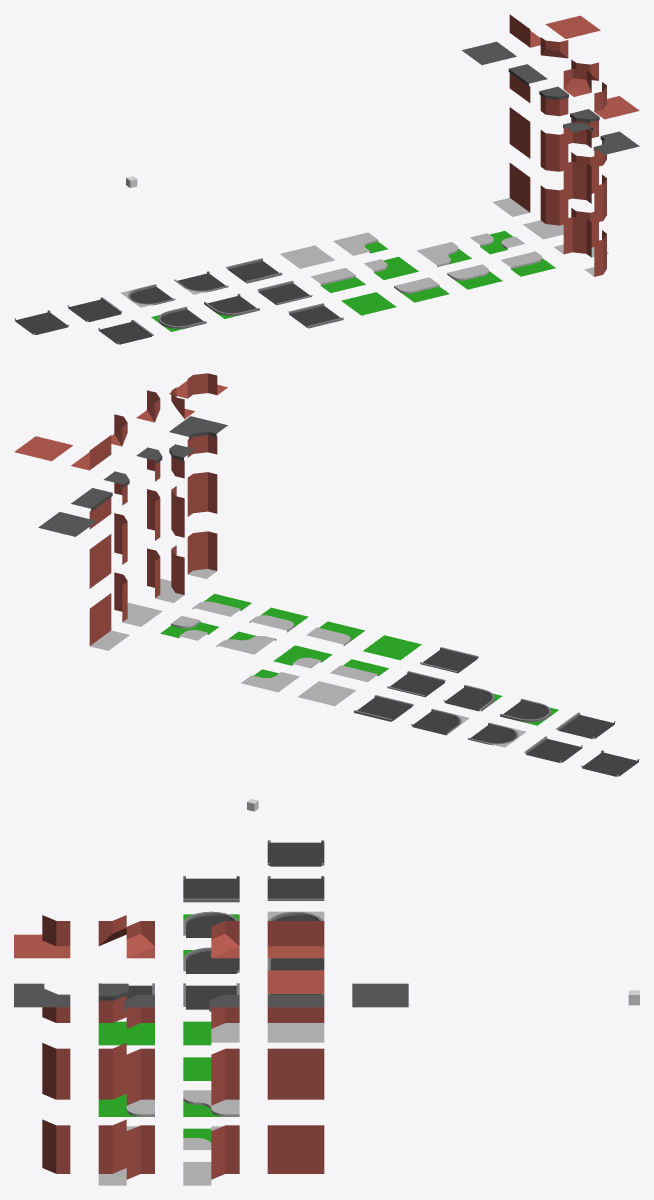
File: modular_set.fbx
3 renders of one model, top to bottom at view 1: azimuth 30°, elevation 25°; view 2: azimuth 150°, elevation 25°; view 3: azimuth 270°, elevation 25°, orthographic. The views are drawn at different scales.
Visible parts, largest first — view 1: 5f_5f_5_5_15_1i_2, 6f_6f_6_6_15_15_2, 5f_4s_4s_5_8_1i_4, 1s_4s_5f_5_7_1i_4, 10f_10f_10_10_0i_15_2, 6f_0s_0s_6_8_8_4, 14f_14f_14_14_15_0i_2, 13s_14_f_13s_14_9_0i_4, 1s_0s_6f_6_7_7_4, 3f_2s_2s_4s_0i_1i_4, 2s_2s_2s_4s_0i_1i_4, 12s_12s_2s_2s_0i_1i_2 (+26 smaller); view 2: 5f_5f_5_5_15_1i_2, 1s_5f_1s_5_9_1i_4, 11s_10f_11s_10f_0i_9_4, 1s_4s_5f_5_7_1i_4, 1s_2f_1s_2_9_9_4, 6f_6f_6_6_15_15_2, 5f_4s_4s_5_8_1i_4, 10f_10f_10_10_0i_15_2, 12s_12s_2s_2s_0i_1i_2, 1s_0s_6f_6_7_7_4, 12s_2s_2s_2s_0i_1i_4, 12s_2s_2s_12s_0i_1i_4 (+23 smaller); view 3: 5f_5f_5_5_15_1i_2, 1s_0s_6f_6_7_7_4, 6f_6f_6_6_15_15_2, 1s_4s_5f_5_7_1i_4, 13s_0s_14f_14_7_0i_4, 5f_4s_4s_5_8_1i_4, 10f_10f_10_10_0i_15_2, 13s_14_f_13s_14_9_0i_4, 11s_0s_10f_10_0i_7_4, 14f_14f_14_14_15_0i_2, 11s_10f_11s_10f_0i_9_4, 6f_0s_0s_6_8_8_4 (+21 smaller).
Boxes of the visible parts, <box> form: 5f_5f_5_5_15_1i_2: <box>554,208,608,257</box>; 6f_6f_6_6_15_15_2: <box>563,152,598,203</box>; 5f_4s_4s_5_8_1i_4: <box>523,185,568,239</box>; 1s_4s_5f_5_7_1i_4: <box>492,163,530,216</box>; 10f_10f_10_10_0i_15_2: <box>563,109,599,147</box>; 6f_0s_0s_6_8_8_4: <box>540,130,568,171</box>; 14f_14f_14_14_15_0i_2: <box>563,59,598,96</box>; 13s_14_f_13s_14_9_0i_4: <box>594,82,639,119</box>; 1s_0s_6f_6_7_7_4: <box>509,107,530,158</box>; 3f_2s_2s_4s_0i_1i_4: <box>394,277,449,302</box>; 2s_2s_2s_4s_0i_1i_4: <box>447,264,502,289</box>; 12s_12s_2s_2s_0i_1i_2: <box>226,258,282,283</box>; 5f_5f_5_5_15_1i_2: <box>147,545,184,602</box>; 1s_5f_1s_5_9_1i_4: <box>187,531,217,578</box>; 11s_10f_11s_10f_0i_9_4: <box>169,416,227,457</box>; 1s_4s_5f_5_7_1i_4: <box>89,593,129,650</box>; 1s_2f_1s_2_9_9_4: <box>187,472,217,516</box>; 6f_6f_6_6_15_15_2: <box>147,486,184,540</box>; 5f_4s_4s_5_8_1i_4: <box>114,572,162,626</box>; 10f_10f_10_10_0i_15_2: <box>136,444,195,481</box>; 12s_12s_2s_2s_0i_1i_2: <box>354,695,413,721</box>; 1s_0s_6f_6_7_7_4: <box>89,534,111,588</box>; 12s_2s_2s_2s_0i_1i_4: <box>500,698,558,725</box>; 12s_2s_2s_12s_0i_1i_4: <box>443,685,502,711</box>; 5f_5f_5_5_15_1i_2: <box>98,1119,154,1185</box>; 1s_0s_6f_6_7_7_4: <box>267,1048,324,1099</box>; 6f_6f_6_6_15_15_2: <box>98,1043,154,1105</box>; 1s_4s_5f_5_7_1i_4: <box>267,1125,324,1173</box>; 13s_0s_14f_14_7_0i_4: <box>267,921,324,958</box>; 5f_4s_4s_5_8_1i_4: <box>183,1125,239,1185</box>; 10f_10f_10_10_0i_15_2: <box>98,983,154,1028</box>; 13s_14_f_13s_14_9_0i_4: <box>14,915,70,958</box>; 11s_0s_10f_10_0i_7_4: <box>267,994,324,1022</box>; 14f_14f_14_14_15_0i_2: <box>98,915,154,958</box>; 11s_10f_11s_10f_0i_9_4: <box>14,983,70,1022</box>; 6f_0s_0s_6_8_8_4: <box>211,1048,239,1105</box>.
Size of the model in its own units: 3200 by 2220 by 1020.
